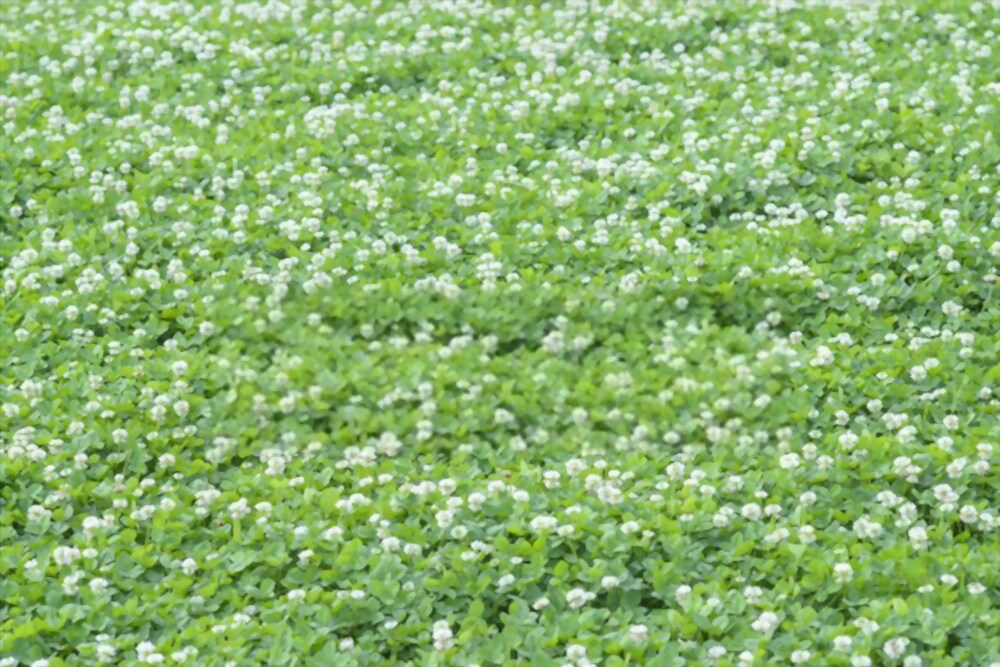clover: (9, 7, 995, 659)
